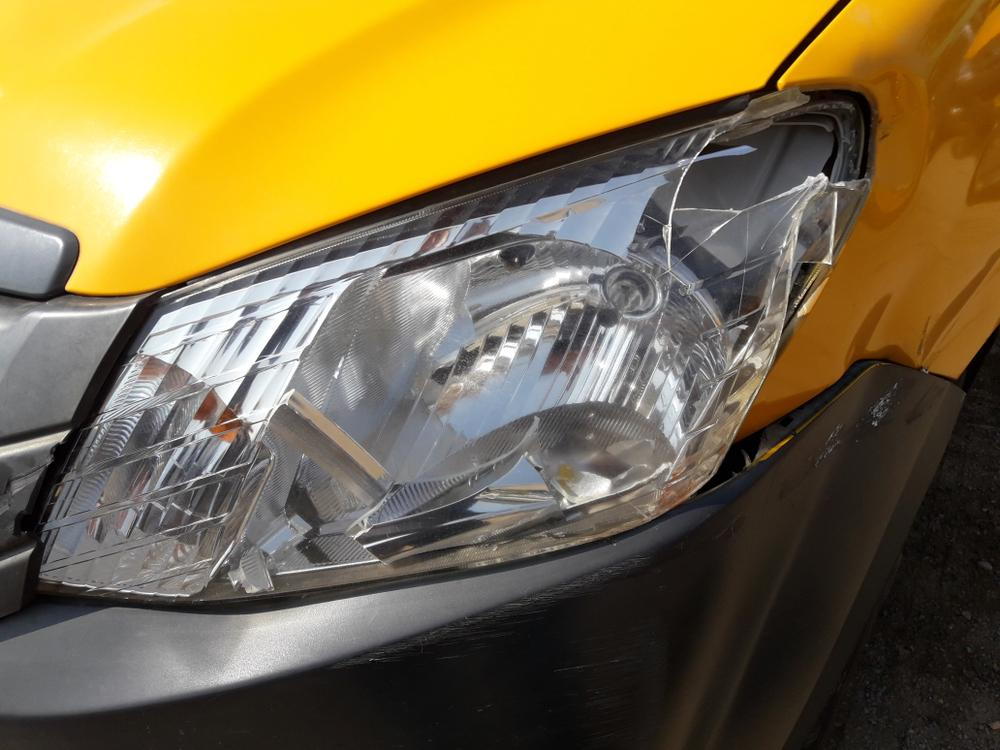lamp broken: (32, 99, 869, 608)
scratch: (327, 551, 668, 670), (807, 380, 906, 469)
